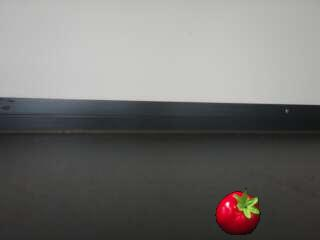Tomato: (217, 188, 261, 236)
